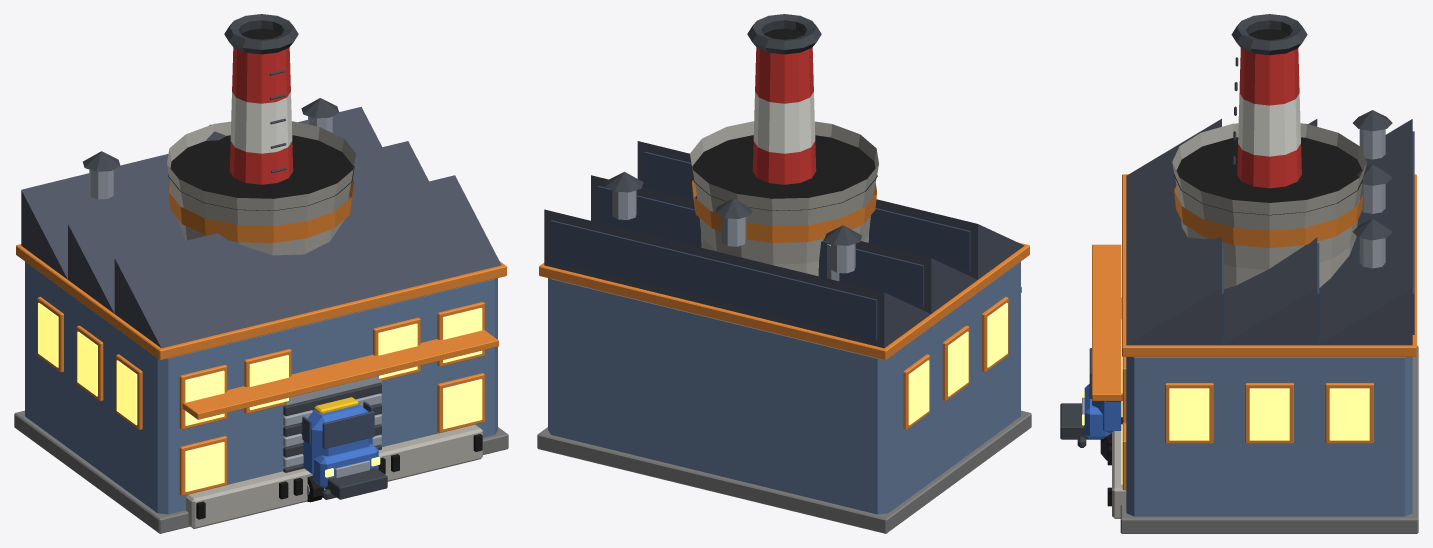
File: toxic_kit.glb
3 views of the same model, side by side, from view 1: azimuth 30°, elevation 25°; view 2: azimuth 150°, elevation 25°; view 3: azimuth 270°, elevation 25° (orthographic). The views are drawn at different scales.
Parts seen in each view (by area): view 1: Plant_main, CoolingTower, Dock, Chimney, Truck_box; view 2: Plant_main, CoolingTower, Chimney; view 3: Plant_main, CoolingTower, Chimney, Dock, Truck_box.
Part boxes in pixels (x1=…): Plant_main: x1=14, y1=98, x2=508, y2=533; CoolingTower: x1=167, y1=121, x2=355, y2=255; Dock: x1=182, y1=329, x2=498, y2=528; Chimney: x1=224, y1=14, x2=298, y2=184; Truck_box: x1=301, y1=397, x2=387, y2=502; Plant_main: x1=537, y1=141, x2=1031, y2=533; CoolingTower: x1=690, y1=121, x2=878, y2=276; Chimney: x1=747, y1=14, x2=821, y2=184; Plant_main: x1=1120, y1=110, x2=1418, y2=533; CoolingTower: x1=1172, y1=123, x2=1366, y2=289; Chimney: x1=1231, y1=14, x2=1307, y2=188; Dock: x1=1092, y1=244, x2=1126, y2=518; Truck_box: x1=1060, y1=348, x2=1121, y2=460.
Size of the model in its own units: 14.4 by 17.17 by 12.5.
